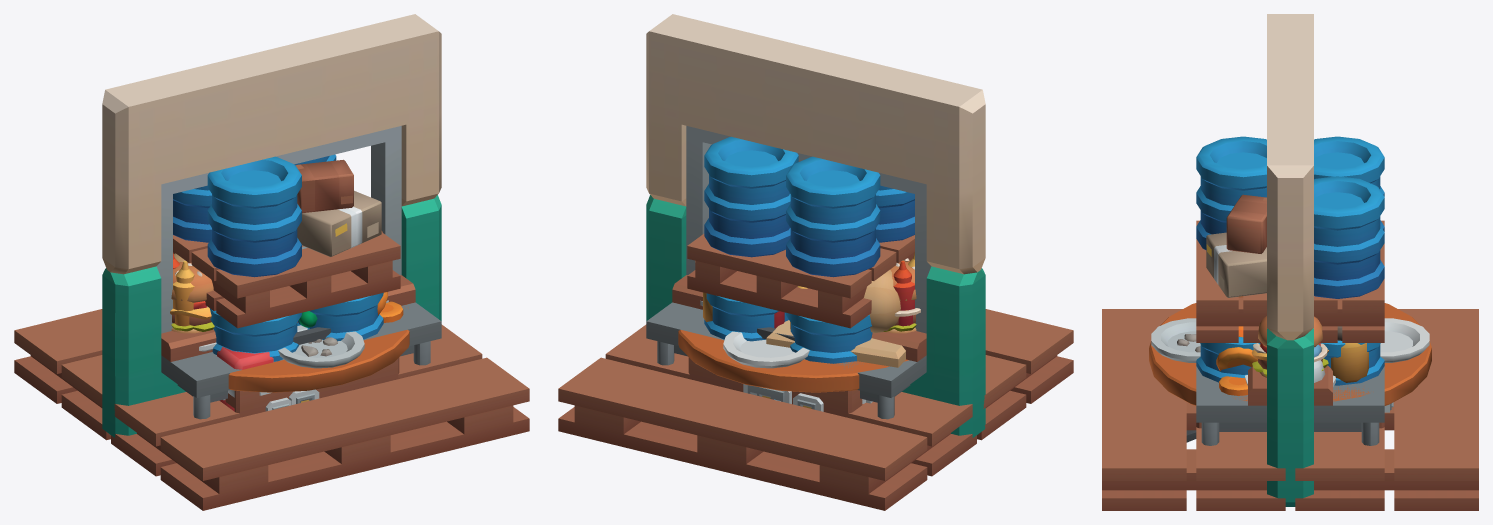
Rendered from props.glb.
3 views of the same model, side by side, from view 1: azimuth 30°, elevation 25°; view 2: azimuth 150°, elevation 25°; view 3: azimuth 270°, elevation 25° (orthographic).
Parts seen in each view (by area): view 1: wall_orderwindow_decorated, Pallet_Large, Pallet_Small_Decorated_B, table_round_A_decorated, kitchentable_A_large_decorated, Pallet_Small_Decorated_A, crate_tomatoes, cargodepot_A; view 2: wall_orderwindow_decorated, Pallet_Large, Pallet_Small_Decorated_B, kitchentable_A_large_decorated, table_round_A_decorated, Pallet_Small_Decorated_A, crate_tomatoes; view 3: Pallet_Large, Pallet_Small_Decorated_B, wall_orderwindow_decorated, kitchentable_A_large_decorated, table_round_A_decorated, Pallet_Small_Decorated_A.
Part boxes in pixels (x1,y1,x2,y2): wall_orderwindow_decorated: (102,14,441,437); Pallet_Large: (14,309,529,510); Pallet_Small_Decorated_B: (173,154,400,328); table_round_A_decorated: (170,231,409,392); kitchentable_A_large_decorated: (161,253,441,419); Pallet_Small_Decorated_A: (210,293,383,361); crate_tomatoes: (225,357,399,417); cargodepot_A: (217,346,273,411); wall_orderwindow_decorated: (646,14,985,437); Pallet_Large: (558,309,1073,510); Pallet_Small_Decorated_B: (687,136,914,328); kitchentable_A_large_decorated: (646,268,926,419); table_round_A_decorated: (678,258,920,392); Pallet_Small_Decorated_A: (704,293,872,363); crate_tomatoes: (688,357,862,417); Pallet_Large: (1102,309,1478,510); Pallet_Small_Decorated_B: (1196,136,1384,342); wall_orderwindow_decorated: (1248,14,1332,506); kitchentable_A_large_decorated: (1196,326,1384,445); table_round_A_decorated: (1149,303,1431,405); Pallet_Small_Decorated_A: (1196,337,1384,385).
Bounding box in the file's own units: 4 × 4.5 × 4.
3 materials, 3 textured.
